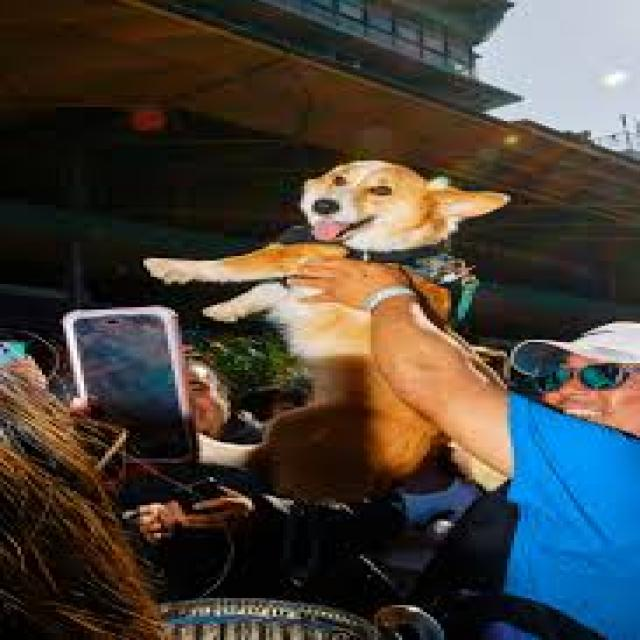CORGI: (135, 143, 492, 513)
